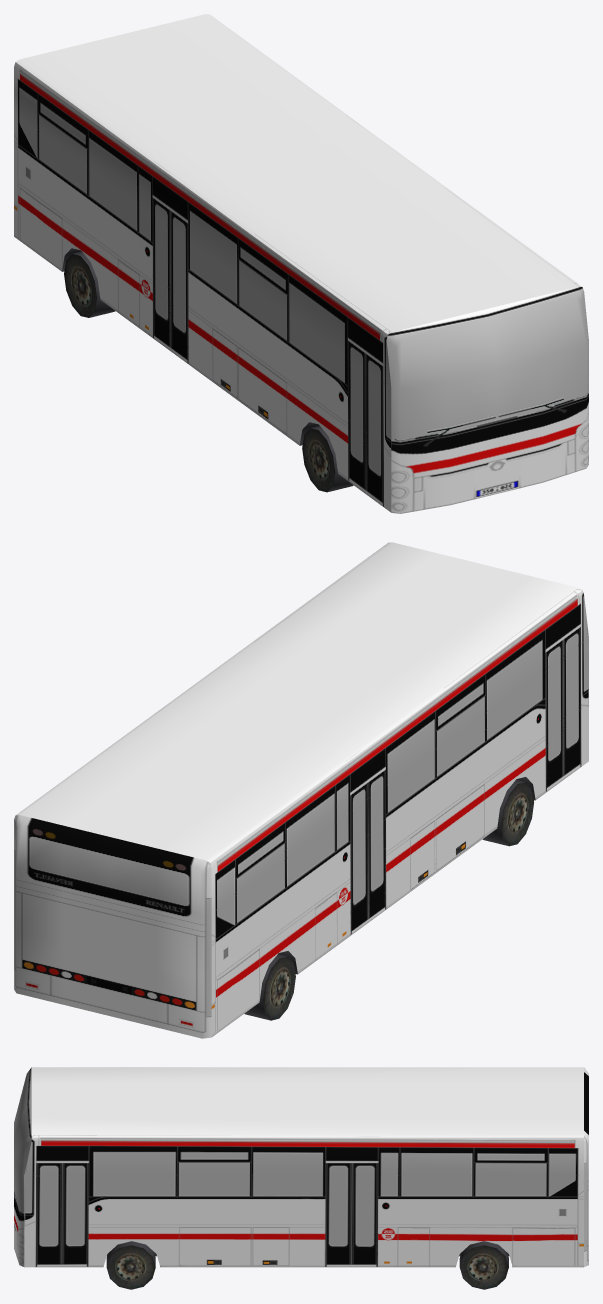
File: bus2.dae
3 renders of one model, top to bottom at view 1: azimuth 30°, elevation 25°; view 2: azimuth 150°, elevation 25°; view 3: azimuth 270°, elevation 25°, orthographic. The views are drawn at different scales.
Parts seen in each view (by area): view 1: bus2; view 2: bus2; view 3: bus2.
Part boxes in pixels (<box>): bus2: <box>14,14,588,513</box>; bus2: <box>14,542,588,1038</box>; bus2: <box>14,1067,588,1289</box>.
Size of the model in its own units: 4.6 by 4.55 by 15.53.
Materials: 1 (1 with a texture image).
